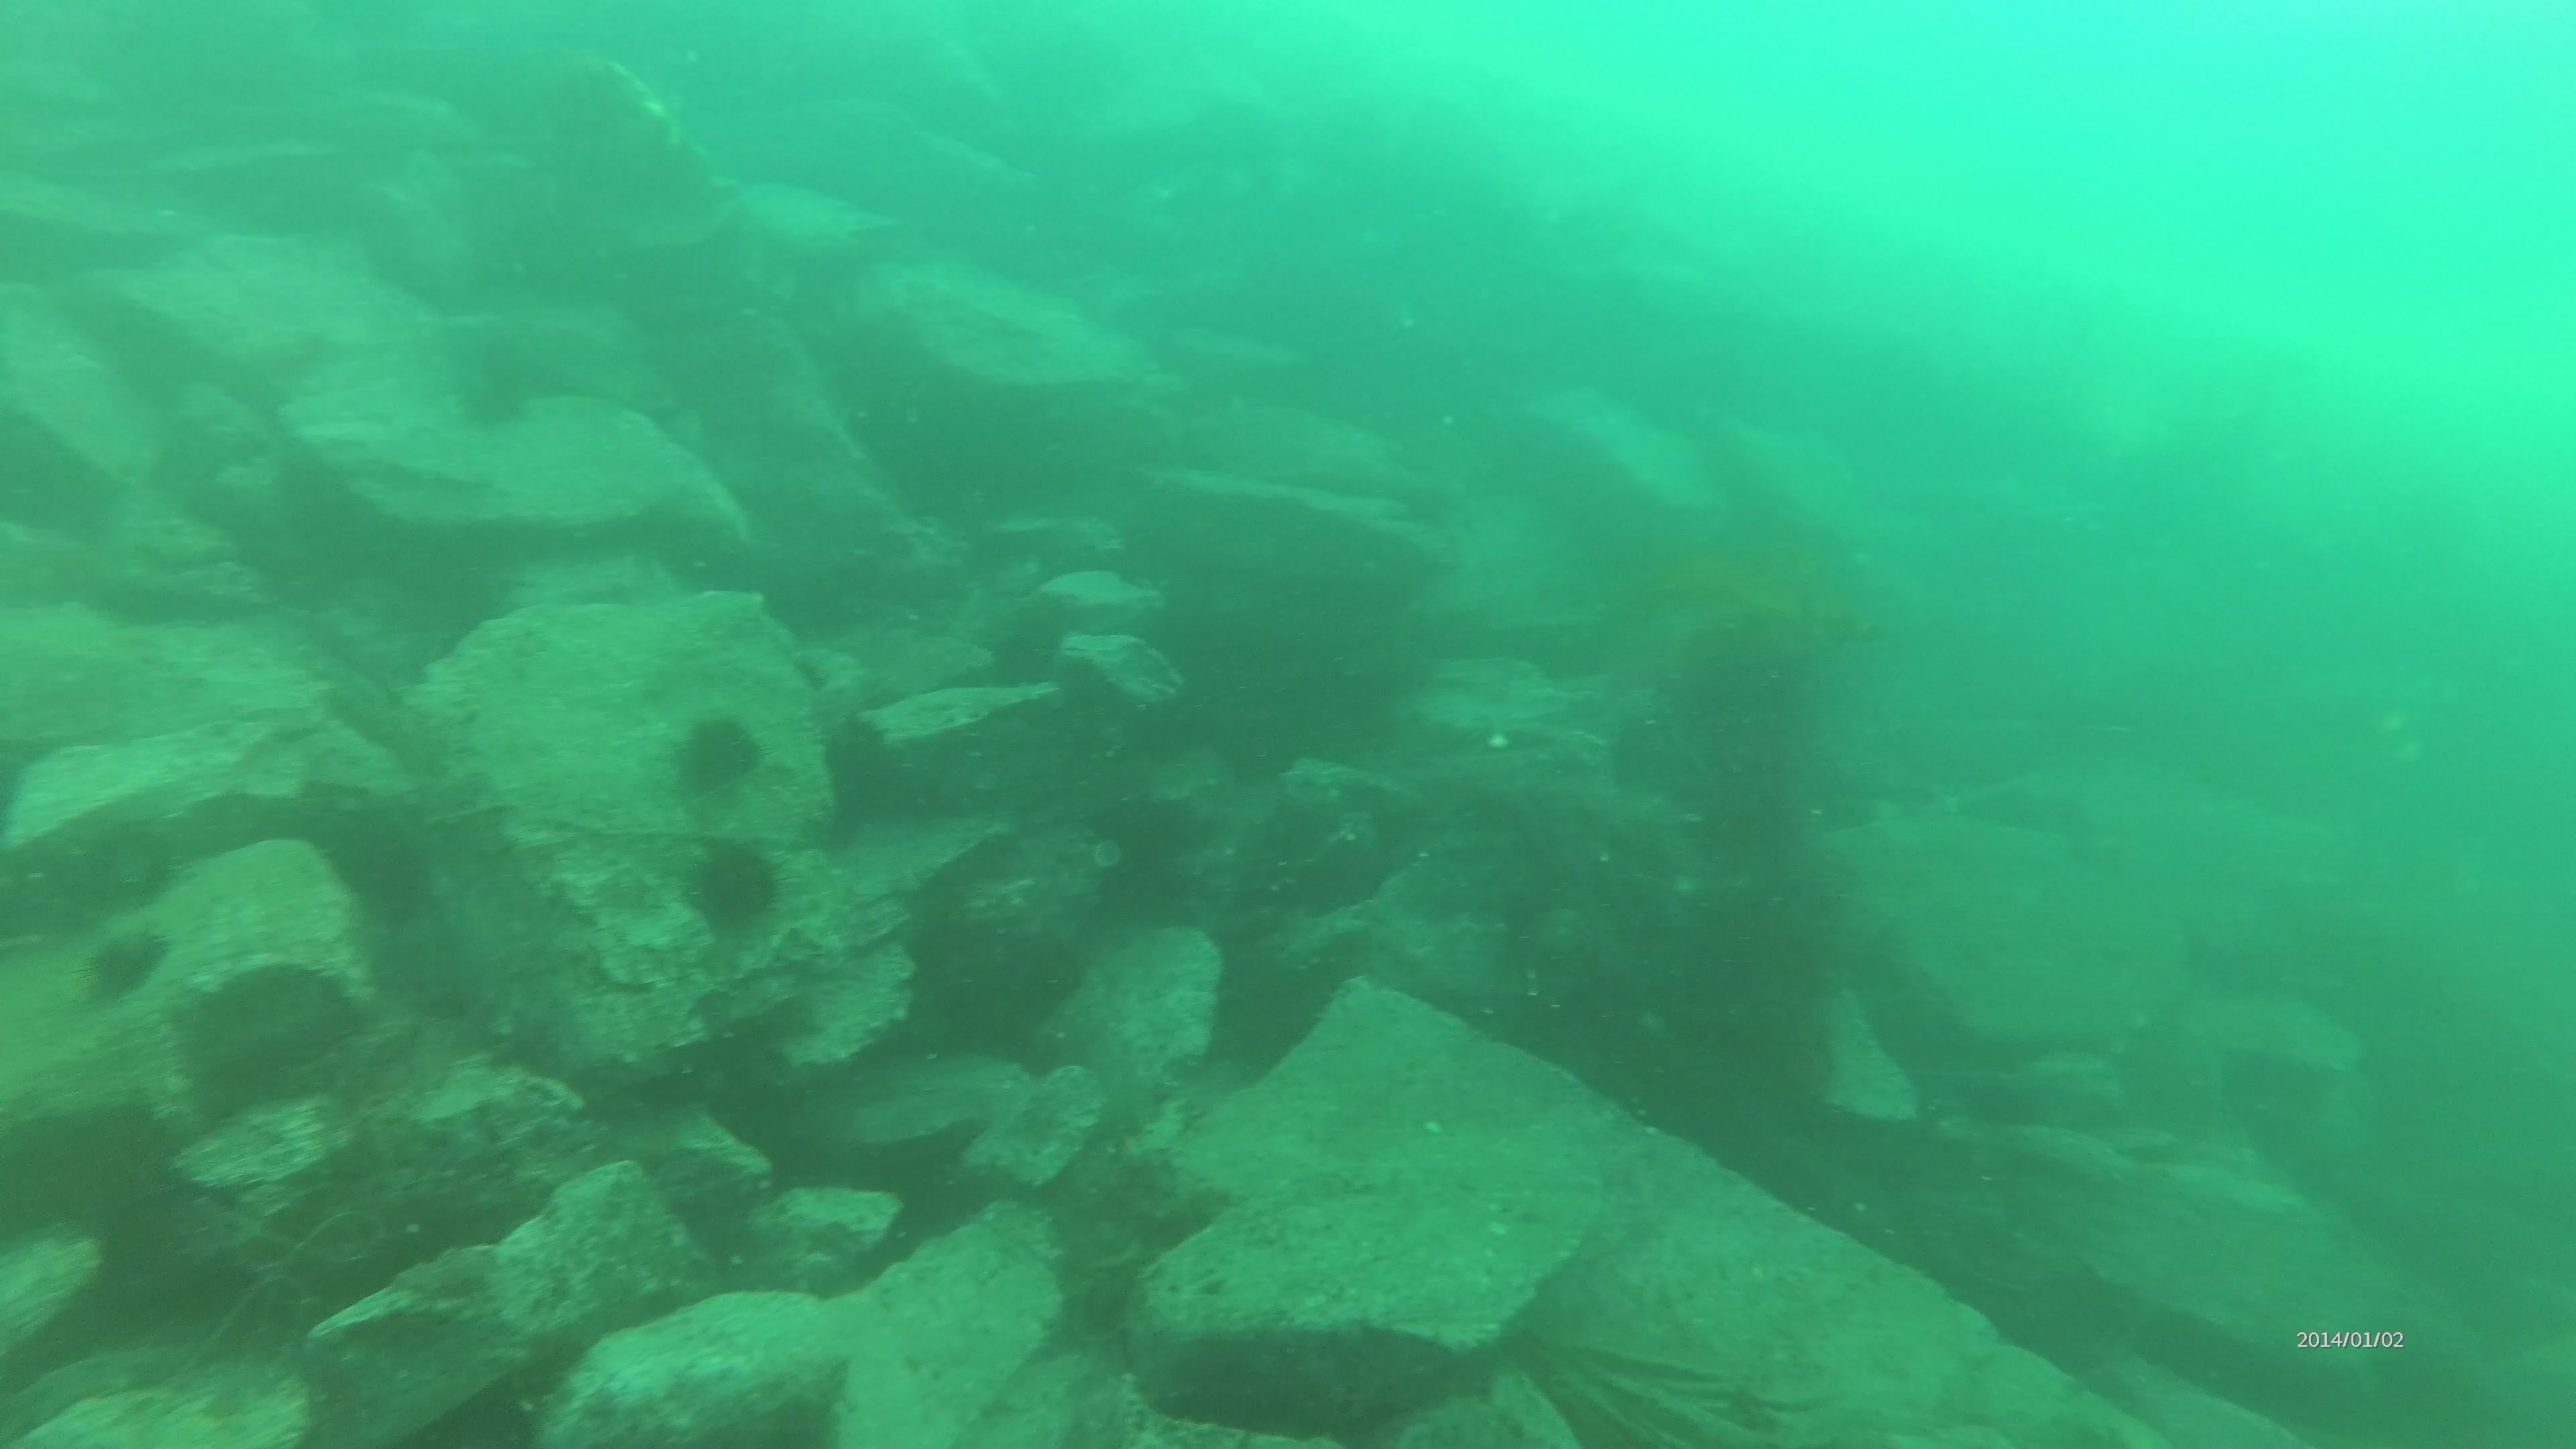echinus: (678, 833, 789, 941), (663, 706, 771, 805), (442, 340, 543, 439), (74, 918, 175, 1010)
